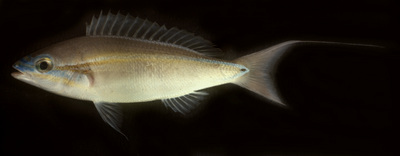fish: (11, 10, 297, 130)
